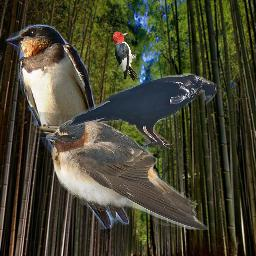Crow: (67, 73, 217, 150)
Swallow: (5, 24, 129, 229), (46, 119, 208, 230)
Woodpecker: (113, 31, 138, 81)
